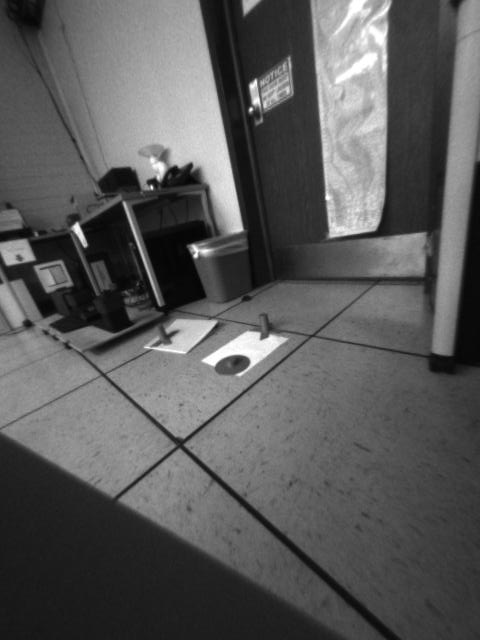X: (245, 311, 282, 339), (150, 321, 181, 348)
